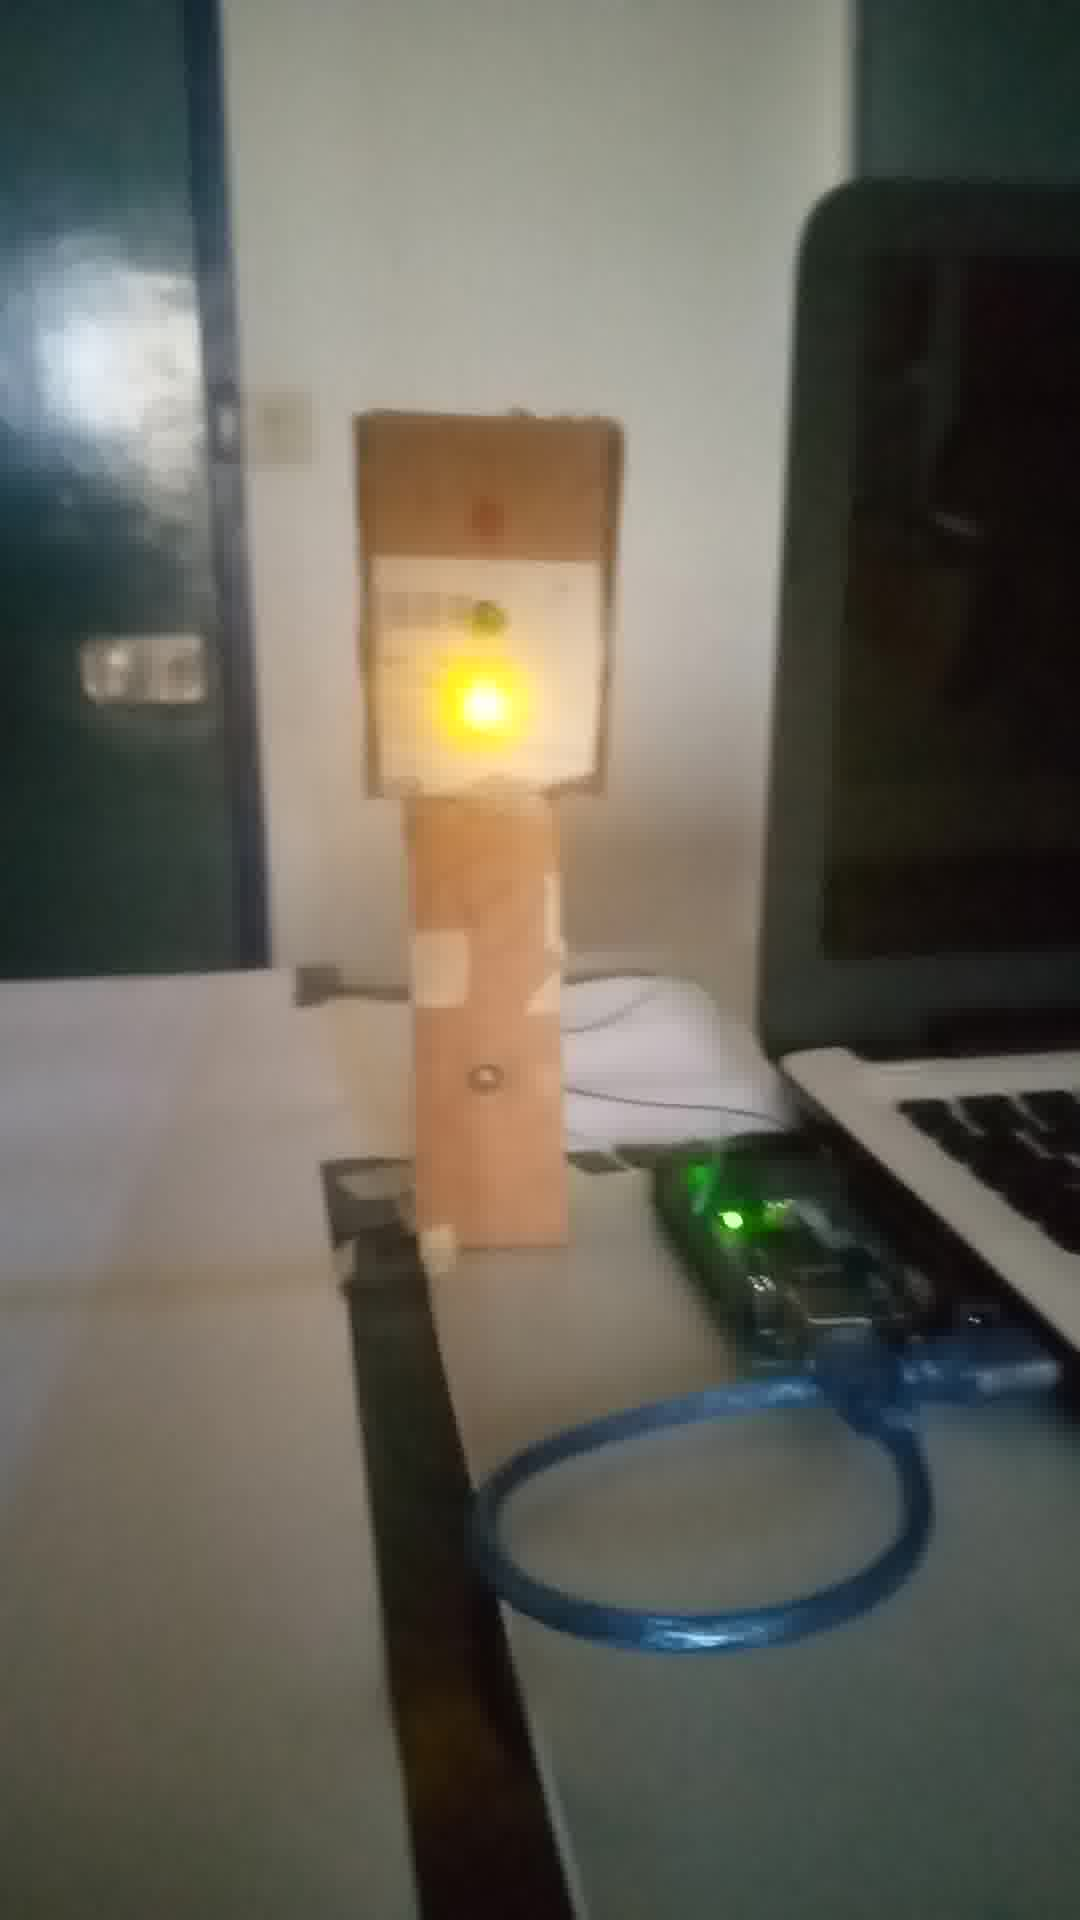green: (349, 409, 626, 791)
